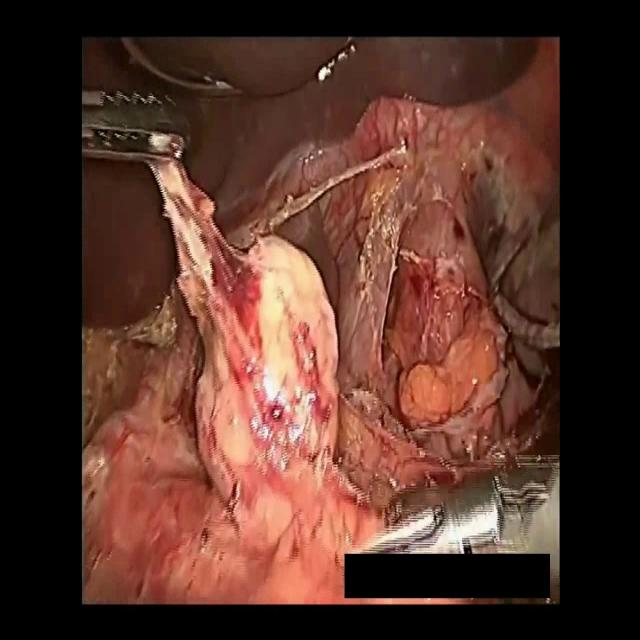surgical-area: (80, 36, 560, 604)
surgical-tool: (80, 87, 191, 163)
